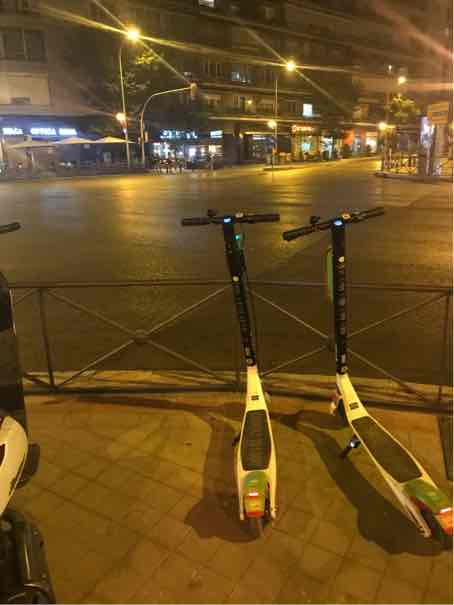scooter: (277, 196, 454, 549), (169, 201, 309, 538)
